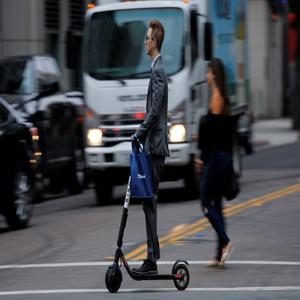human on a scooter: (104, 19, 192, 294)
